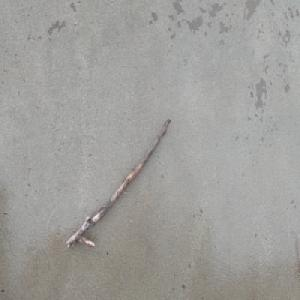Wood: (65, 116, 172, 250)
